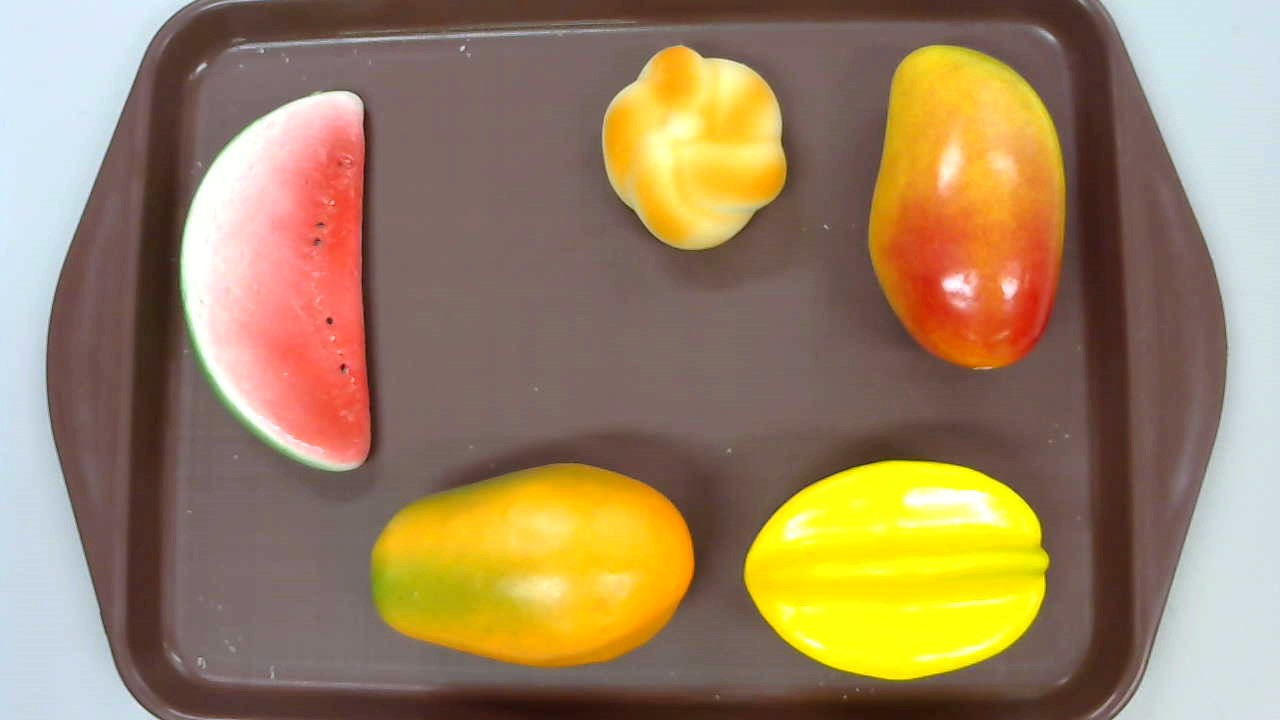papaya: (369, 461, 695, 669)
red mango: (866, 44, 1066, 370)
star fruit: (744, 460, 1049, 681)
twist bread: (601, 45, 787, 251)
watermelon: (178, 91, 372, 471)
